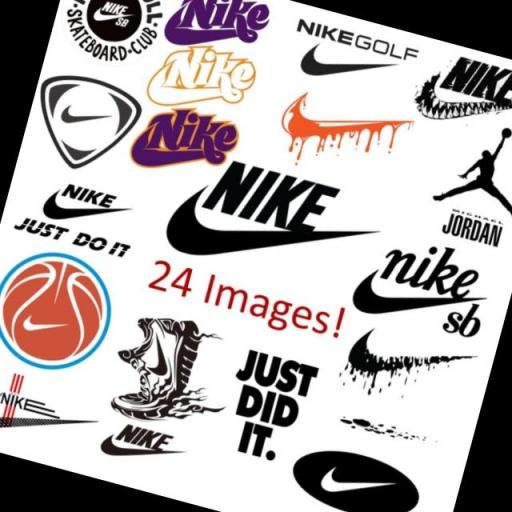Nike: (201, 150, 345, 244), (314, 459, 398, 508)
